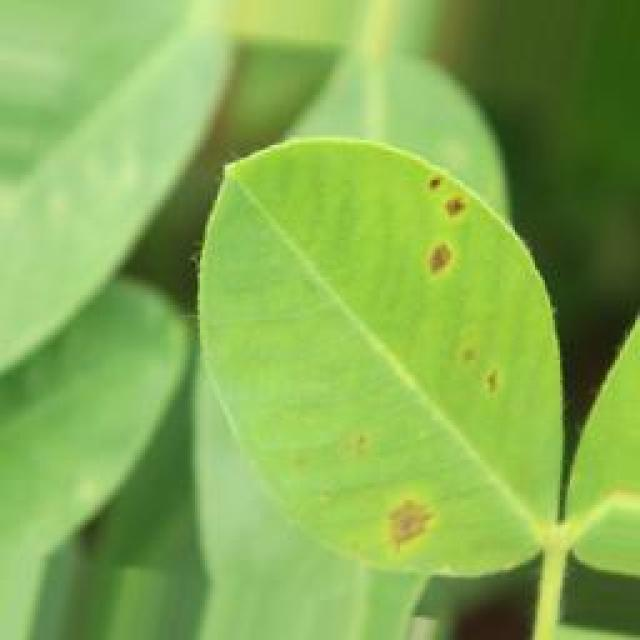Early_leaf_spot: (397, 152, 481, 290), (425, 319, 526, 408), (360, 493, 461, 574)
